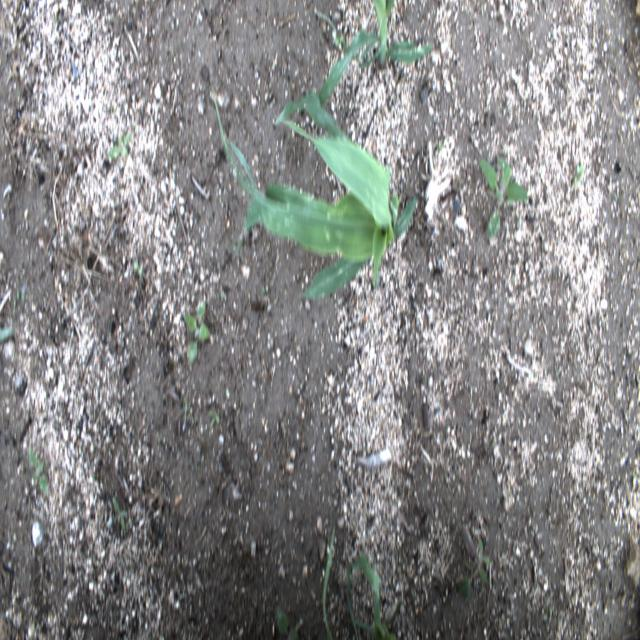crop: (211, 89, 421, 300), (317, 0, 436, 104), (344, 540, 395, 636), (320, 522, 338, 638)
weed: (476, 148, 528, 245), (178, 291, 215, 367), (455, 539, 498, 599), (105, 126, 134, 162), (26, 448, 49, 491), (110, 494, 130, 535), (7, 277, 27, 316), (274, 610, 302, 634), (127, 254, 151, 278), (178, 394, 196, 426), (568, 156, 584, 191), (0, 320, 17, 348), (205, 408, 224, 431)
